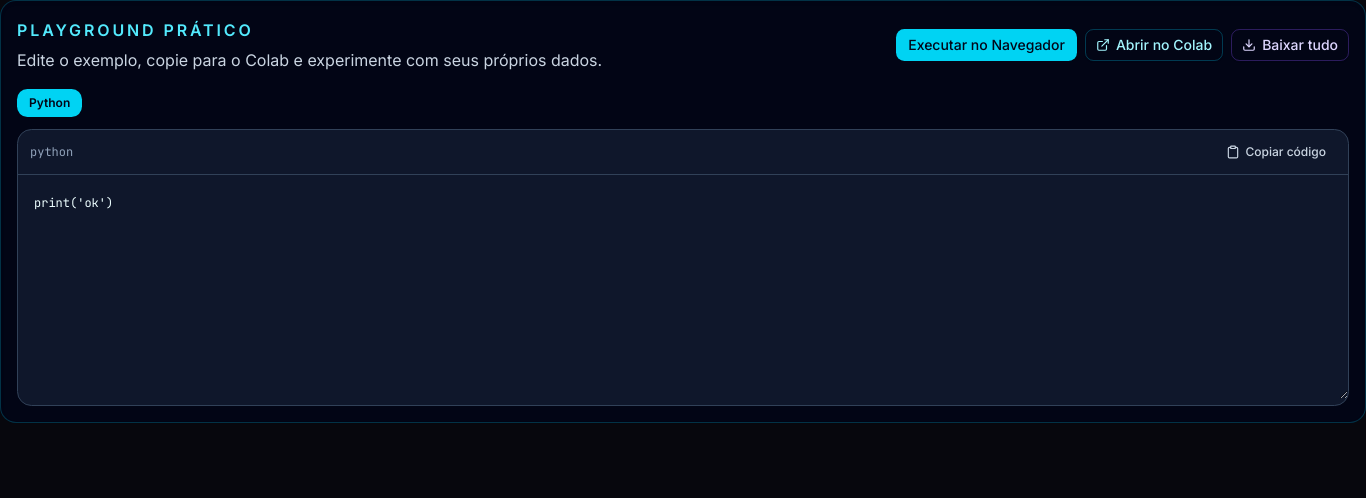
Test: CodePlayground › executa código Python local quando o runtime está disponível
Click the button "Executar no Navegador".
click(987, 45)  # box [896,29,1077,61]
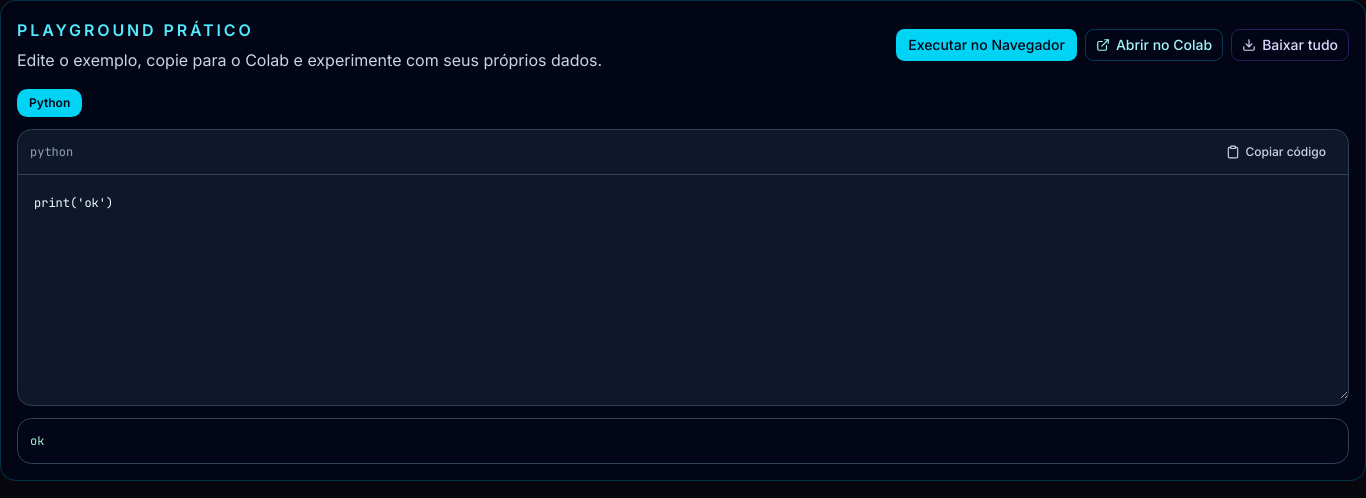
Expected: the message reads "ok", [30,433,44,449]
